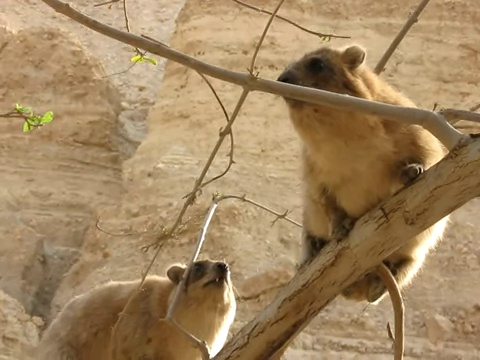Rock Hyrex: (276, 45, 447, 304), (34, 261, 235, 360)
